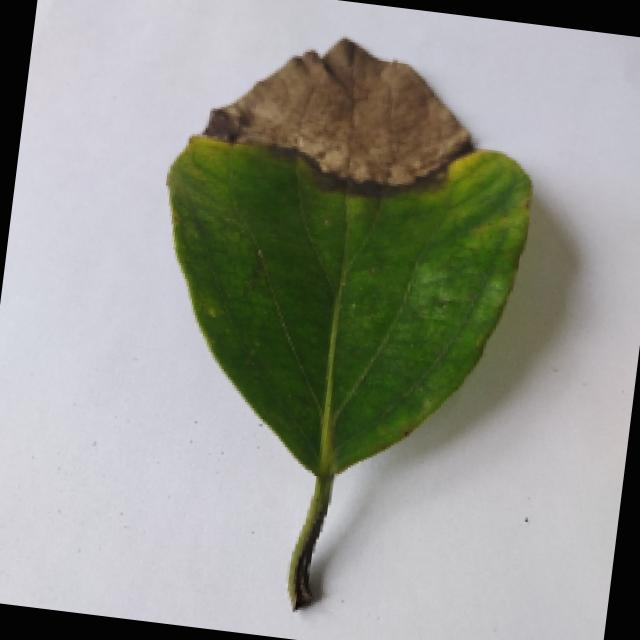footrot: (120, 19, 556, 625)
